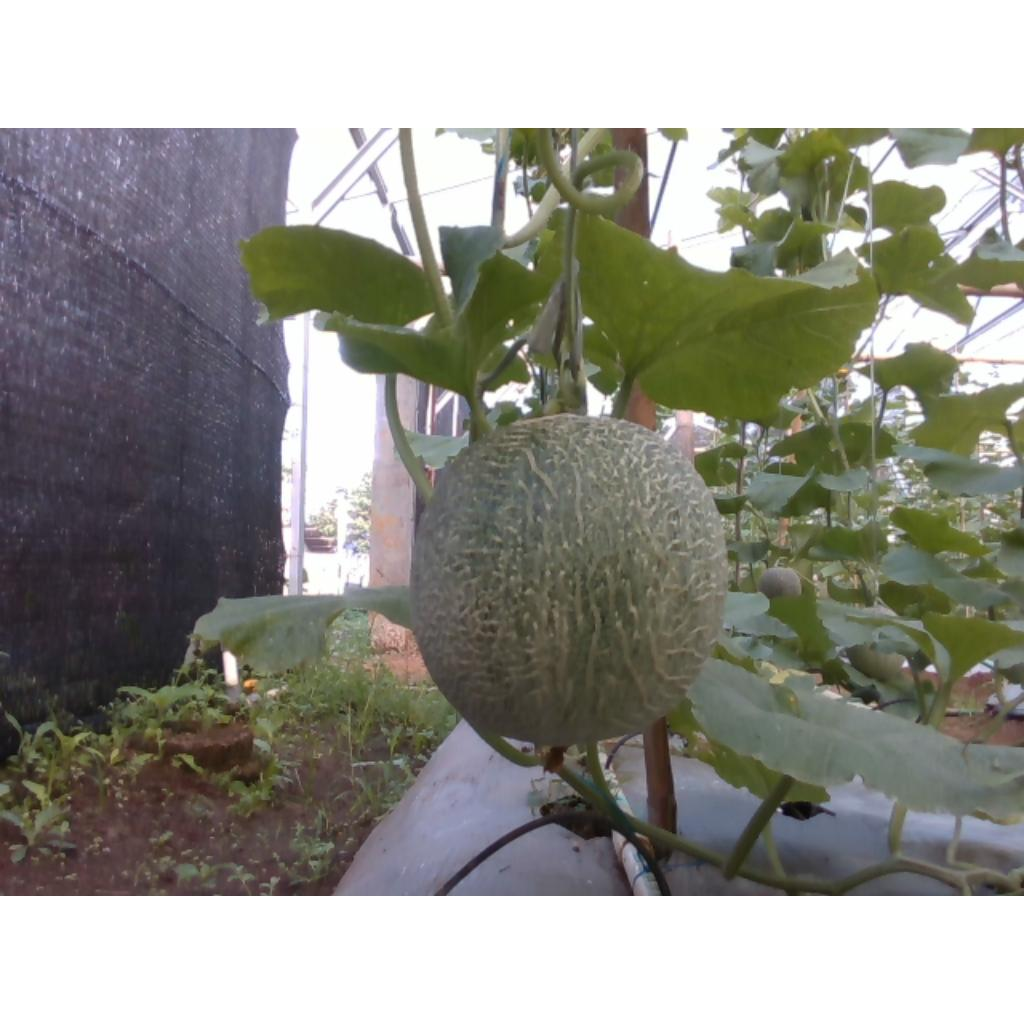melon: (411, 414, 728, 746)
